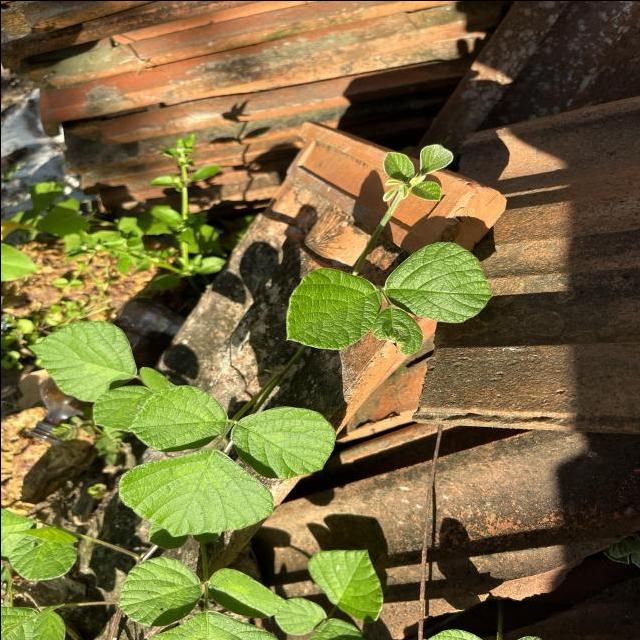Pseudarthria viscida: (116, 382, 337, 538), (282, 238, 494, 358)
